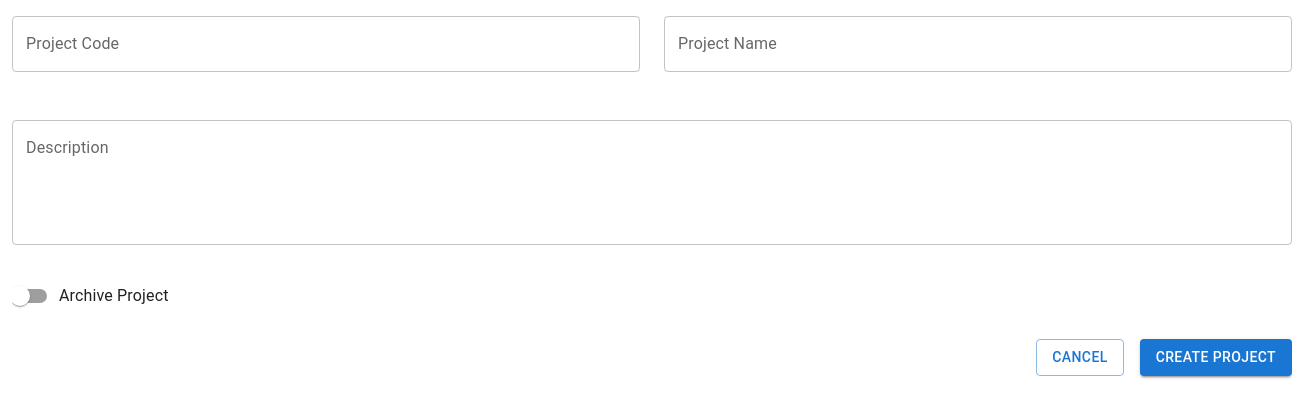
Scenario: ProjectForm Component › shows validation errors for required fields
Note: Submit without filling required fields
Click the button "Create Project": click(1216, 357) [1140, 339, 1292, 376]
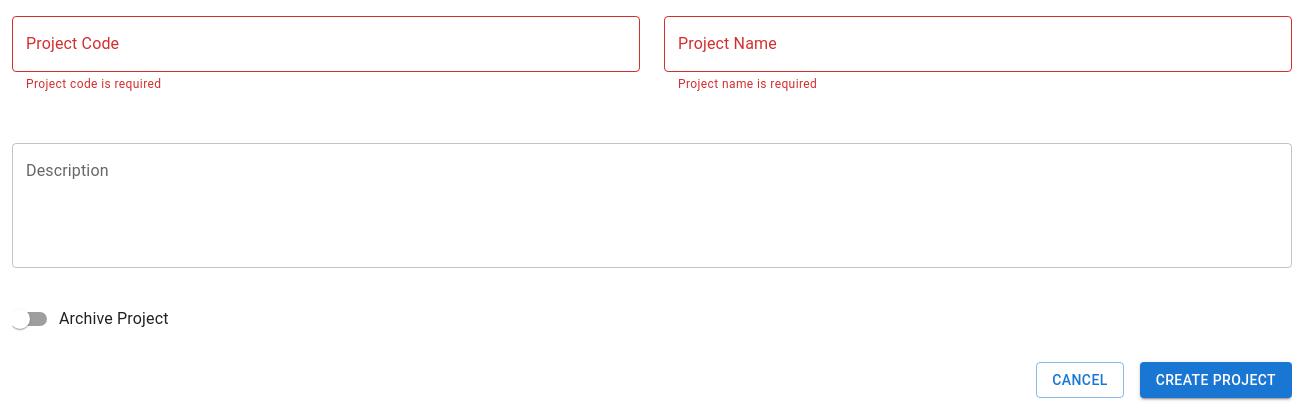
Now the text "Project code is required" is shown, box [26, 77, 162, 91]
Now the text "Project name is required" is shown, box [678, 77, 817, 91]
